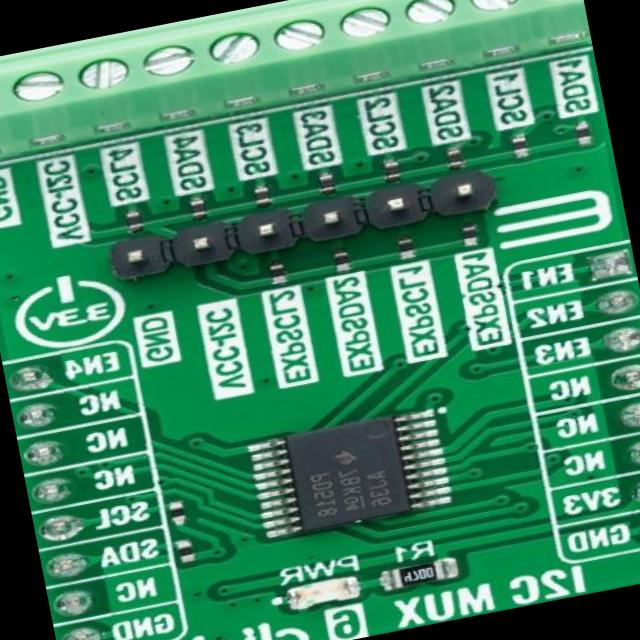IC: (258, 406, 438, 542)
LED: (286, 574, 364, 618)
connector: (0, 0, 593, 172), (108, 173, 492, 284)
resistor: (386, 558, 446, 594), (161, 491, 194, 526), (166, 538, 200, 566)
